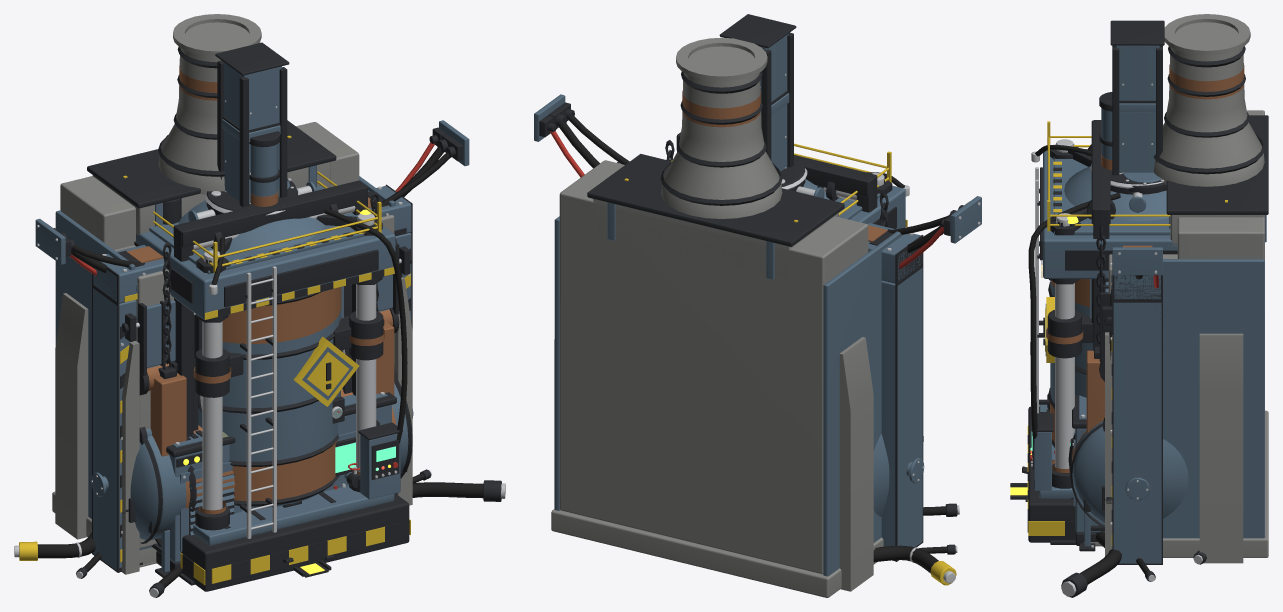
File: props.glb
3 renders of one model, left to right at view 1: azimuth 30°, elevation 25°; view 2: azimuth 150°, elevation 25°; view 3: azimuth 270°, elevation 25°, orthographic. The views are drawn at different scales.
Visible parts, largest first — view 1: furnace, machine_press, tank_vertical, door_frame, pillar, tank_horizontal, machine_a, cable_hanging, piston, duct, cable_floor_c, pipe_vertical (+2 smaller); view 2: furnace, door_frame, pillar, cable_hanging, machine_press, cable_floor_c, tank_horizontal; view 3: furnace, machine_press, door_frame, pillar, tank_vertical, tank_horizontal, piston, cable_hanging, machine_a, cable_floor_c, pipe_vertical, conveyor (+1 smaller).
Part boxes in pixels (x1,y1,x2,y2): furnace: [52, 14, 412, 577]; machine_press: [123, 135, 410, 591]; tank_vertical: [178, 178, 359, 538]; door_frame: [92, 184, 412, 572]; pillar: [215, 42, 289, 207]; tank_horizontal: [91, 376, 413, 566]; machine_a: [155, 392, 396, 570]; cable_hanging: [35, 120, 469, 275]; piston: [193, 311, 384, 397]; duct: [137, 242, 399, 375]; cable_floor_c: [14, 480, 505, 560]; pipe_vertical: [249, 131, 280, 206]; furnace: [551, 37, 903, 597]; door_frame: [617, 162, 923, 561]; pillar: [719, 14, 796, 171]; cable_hanging: [534, 94, 981, 269]; machine_press: [624, 143, 909, 229]; cable_floor_c: [873, 545, 956, 585]; tank_horizontal: [873, 434, 924, 516]; furnace: [1010, 14, 1268, 563]; machine_press: [1027, 121, 1227, 544]; door_frame: [1109, 245, 1162, 564]; pillar: [1110, 20, 1164, 175]; tank_vertical: [1035, 166, 1168, 447]; tank_horizontal: [1054, 421, 1188, 546]; piston: [1046, 279, 1093, 358]; cable_hanging: [1112, 247, 1162, 288]; machine_a: [1070, 395, 1104, 545]; cable_floor_c: [1061, 531, 1121, 597]; pipe_vertical: [1099, 92, 1112, 170]; conveyor: [1079, 499, 1104, 551].
Size of the model in its own units: 6.8 by 7.02 by 3.55.
